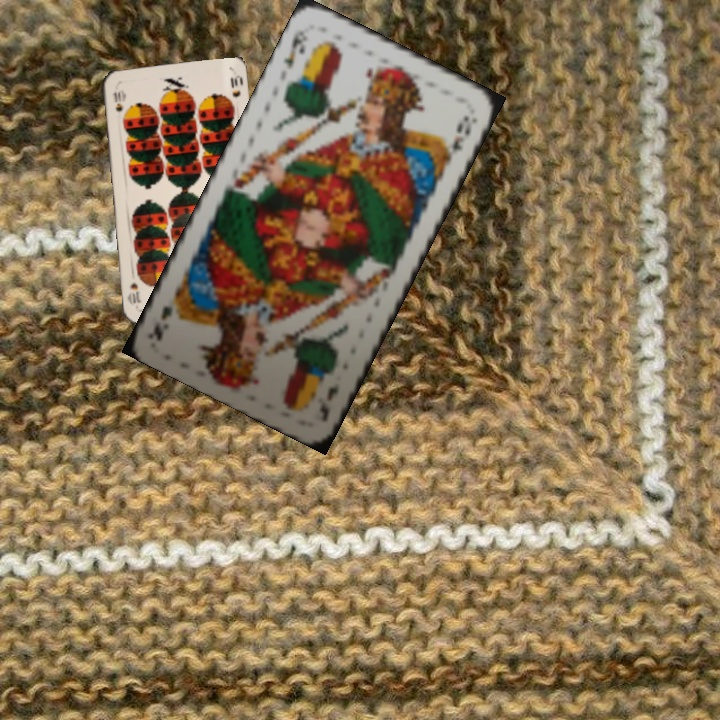EK: (280, 26, 311, 72), (315, 381, 342, 425)
S10: (109, 88, 125, 114)
